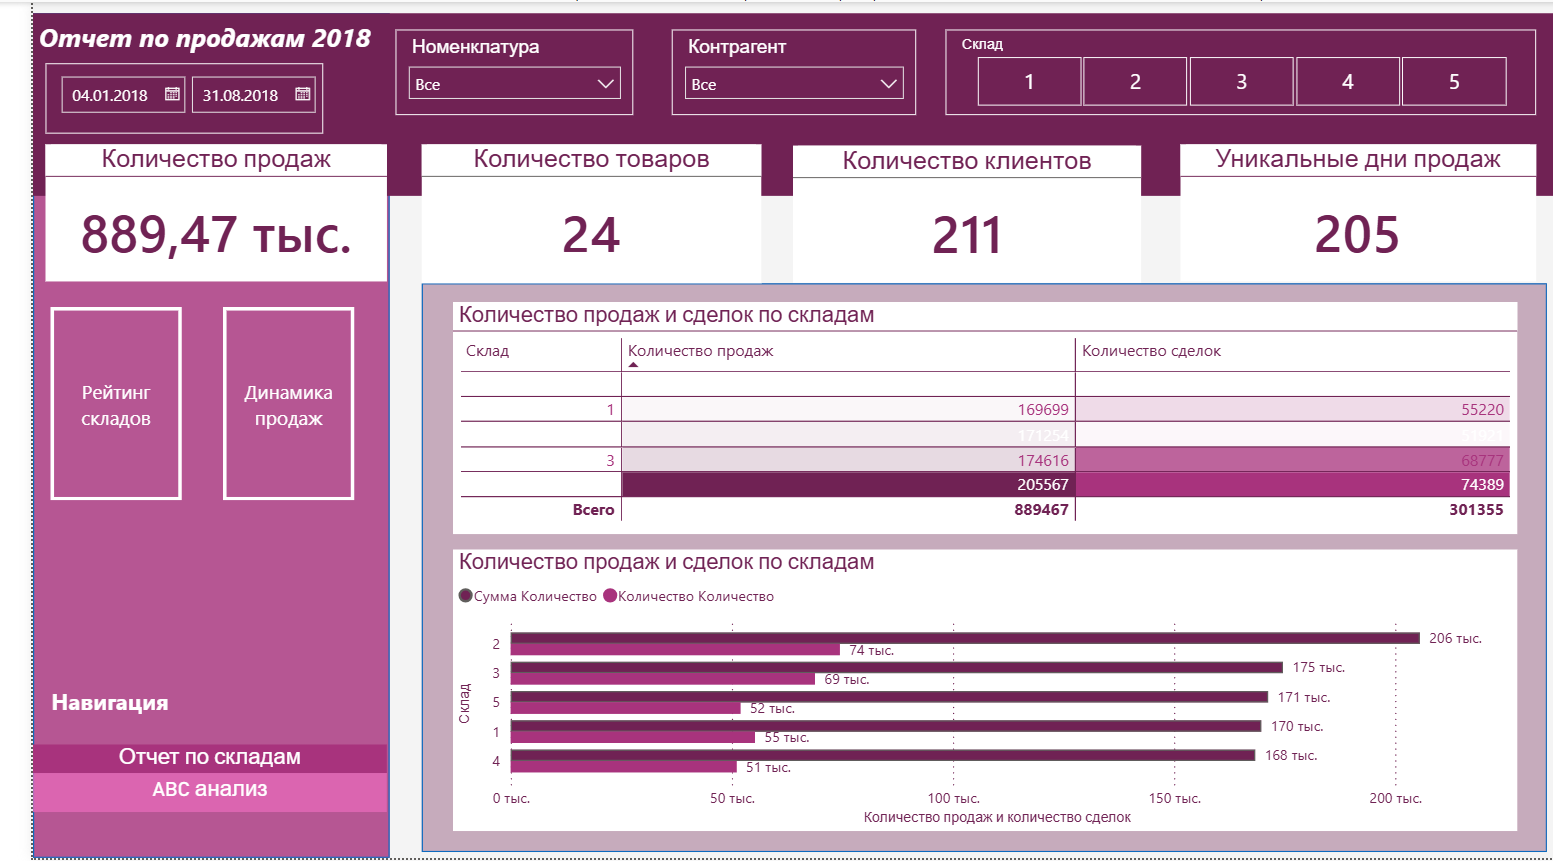

The page's visual inventory and layout, read from the dashboard file:
{"tool":"powerbi","page":{"name":"Отчет по складам","canvas":[1280,720],"ordinal":0},"visuals":[{"type":"shape","box":[326.8,236.9,946.5,478.5],"z":0},{"type":"shape","box":[0,9.3,300,710.5],"z":1000},{"type":"textbox","box":[0,9.3,1280.2,153.5],"z":2000},{"type":"slicer","fields":{"Values":["data.Дата"]},"box":[10.5,51.2,233.7,59.3],"z":3000},{"type":"slicer","fields":{"Values":["data.Склад"]},"box":[767.4,23.3,496.5,72.1],"z":4000},{"type":"slicer","fields":{"Values":["data.Номенклатура"]},"box":[304.7,23.3,200,72.1],"z":5000},{"type":"slicer","fields":{"Values":["data.Контрагент"]},"box":[537.2,23.3,205.8,72.1],"z":6000},{"type":"cardVisual","title":"Количество продаж","fields":{"Data":["Sum(data.Количество)"]},"box":[10.5,119.8,287.2,115.1],"z":7000},{"type":"cardVisual","title":"Количество товаров","fields":{"Data":["Count(data.Номенклатура)"]},"box":[326.8,120.2,285.9,116.7],"z":8000},{"type":"cardVisual","title":"Количество клиентов","fields":{"Data":["Count(data.Контрагент)"]},"box":[639.5,120.9,293,115.1],"z":9000},{"type":"cardVisual","title":"Уникальные дни продаж","fields":{"Data":["Count(data.Дата)"]},"box":[965.1,119.8,298.8,115.1],"z":10000},{"type":"tableEx","title":"Количество продаж и сделок по складам","fields":{"Values":["data.Склад","Sum(data.Количество)","CountNonNull(data.Количество)"]},"box":[353.6,252.1,895.1,194.9],"z":11000},{"type":"clusteredBarChart","title":"Количество продаж  и сделок по складам","fields":{"Category":["data.Склад"],"Y":["Sum(data.Количество)","CountNonNull(data.Количество)"]},"box":[353.6,461,895.1,236.9],"z":12000},{"type":"actionButton","title":"Отчет по складам","box":[0,624.4,297.6,57.2],"z":13000},{"type":"textbox","box":[10.5,570.9,154.7,37.2],"z":14000},{"type":"actionButton","box":[15.1,257,110.5,162.8],"z":15000},{"type":"actionButton","box":[159.3,257,110.5,162.8],"z":16000},{"type":"actionButton","title":"ABC анализ","box":[0,650.8,297.5,46.3],"z":18000}]}

Visuals, with their boxes in screenshot pixels (x1, y1, x2, y2), scaled from the page's 1280x720 canvas onto the 1553x861 screenshot:
shape: [left=397, top=283, right=1545, bottom=855]
shape: [left=0, top=11, right=364, bottom=860]
textbox: [left=0, top=11, right=1552, bottom=195]
slicer - data.Дата: [left=13, top=61, right=296, bottom=132]
slicer - data.Склад: [left=931, top=28, right=1533, bottom=114]
slicer - data.Номенклатура: [left=370, top=28, right=612, bottom=114]
slicer - data.Контрагент: [left=652, top=28, right=901, bottom=114]
"Количество продаж" cardVisual: [left=13, top=143, right=361, bottom=281]
"Количество товаров" cardVisual: [left=397, top=144, right=743, bottom=283]
"Количество клиентов" cardVisual: [left=776, top=145, right=1131, bottom=282]
"Уникальные дни продаж" cardVisual: [left=1171, top=143, right=1533, bottom=281]
"Количество продаж и сделок по складам" tableEx: [left=429, top=301, right=1515, bottom=535]
"Количество продаж  и сделок по складам" clusteredBarChart: [left=429, top=551, right=1515, bottom=835]
"Отчет по складам" actionButton: [left=0, top=747, right=361, bottom=815]
textbox: [left=13, top=683, right=200, bottom=727]
actionButton: [left=18, top=307, right=152, bottom=502]
actionButton: [left=193, top=307, right=327, bottom=502]
"ABC анализ" actionButton: [left=0, top=778, right=361, bottom=834]
